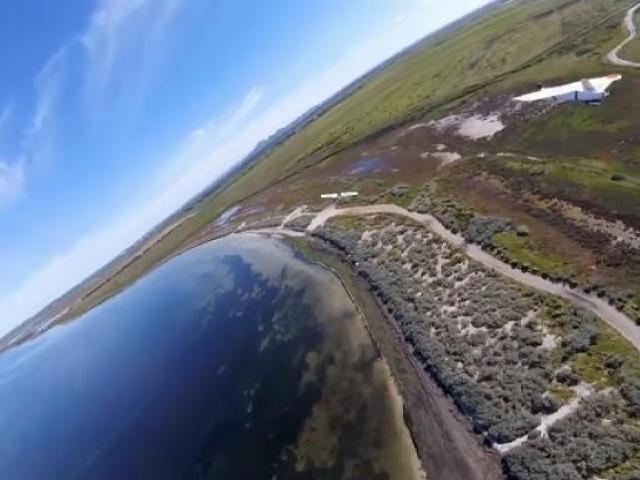uav: (322, 190, 358, 203)
